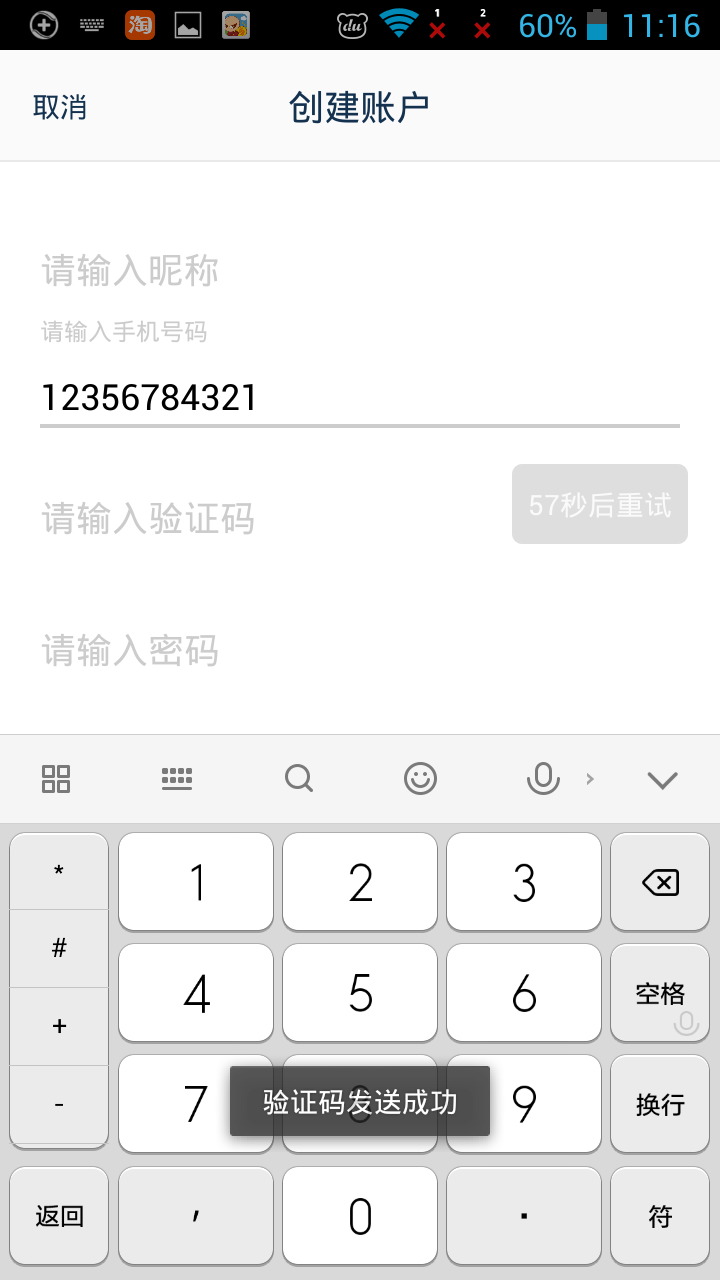alert: (223, 1060, 495, 1142)
textview: (24, 363, 690, 444)
